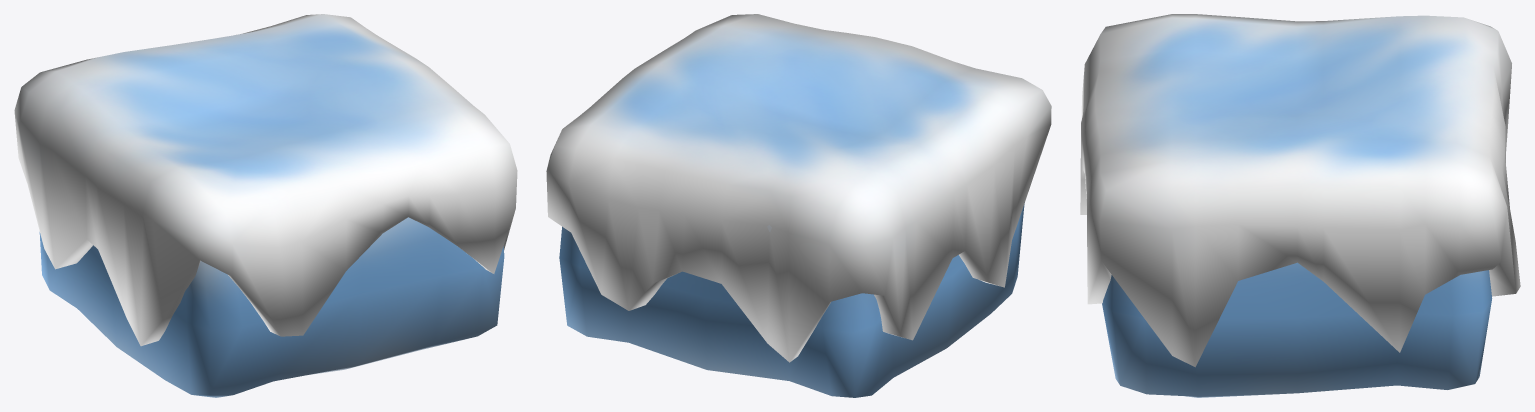
File: iceblock_sliced1.fbx
3 renders of one model, left to right at view 1: azimuth 30°, elevation 25°; view 2: azimuth 150°, elevation 25°; view 3: azimuth 270°, elevation 25°, orthographic. The views are drawn at different scales.
Parts seen in each view (by area): view 1: 얼음1바닥.004; view 2: 얼음1바닥.004; view 3: 얼음1바닥.004.
Part boxes in pixels (x1,y1,x2,y2): 얼음1바닥.004: (14,14,517,397); 얼음1바닥.004: (546,14,1051,397); 얼음1바닥.004: (1080,14,1520,397).
Size of the model in its own units: 219 by 140 by 221.
